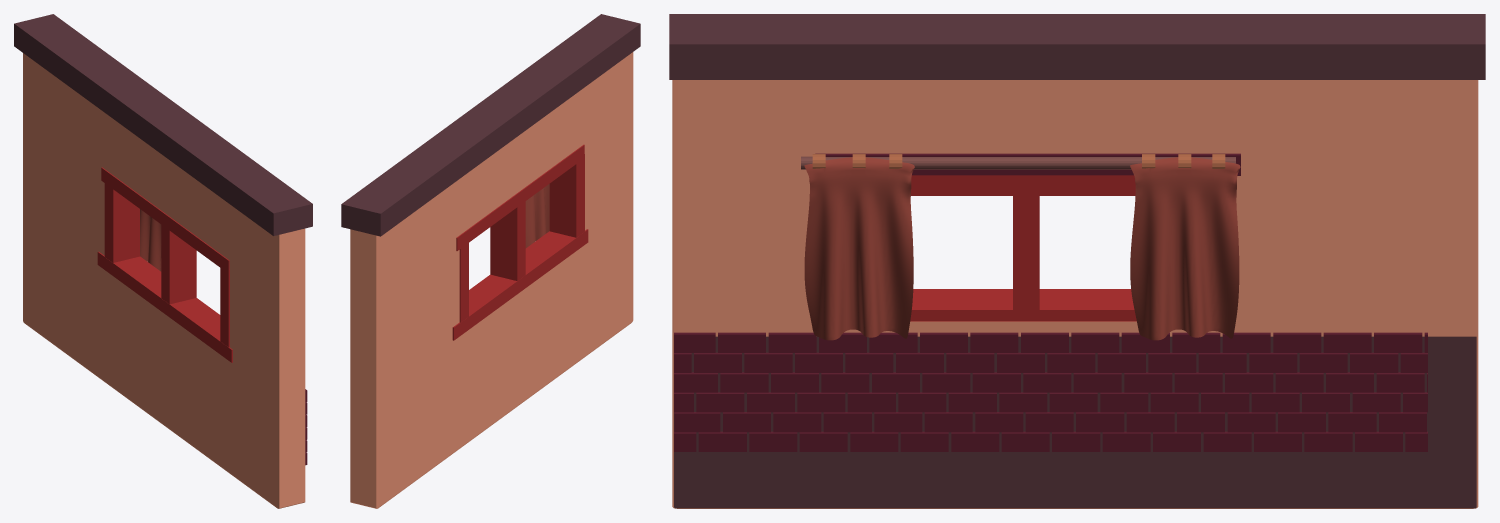
Rendered from parede-esquerda 1.fbx.
3 renders of one model, left to right at view 1: azimuth 30°, elevation 25°; view 2: azimuth 150°, elevation 25°; view 3: azimuth 270°, elevation 25°, orthographic. The views are drawn at different scales.
Parts seen in each view (by area): view 1: Cube.105; view 2: Cube.105; view 3: Cube.105.
Boxes of the visible parts, left/top/right/bottom form: Cube.105: left=14, top=14, right=312, bottom=508; Cube.105: left=341, top=14, right=640, bottom=508; Cube.105: left=669, top=14, right=1485, bottom=508.
Bounding box in the file's own units: 69.25 × 413 × 650.
